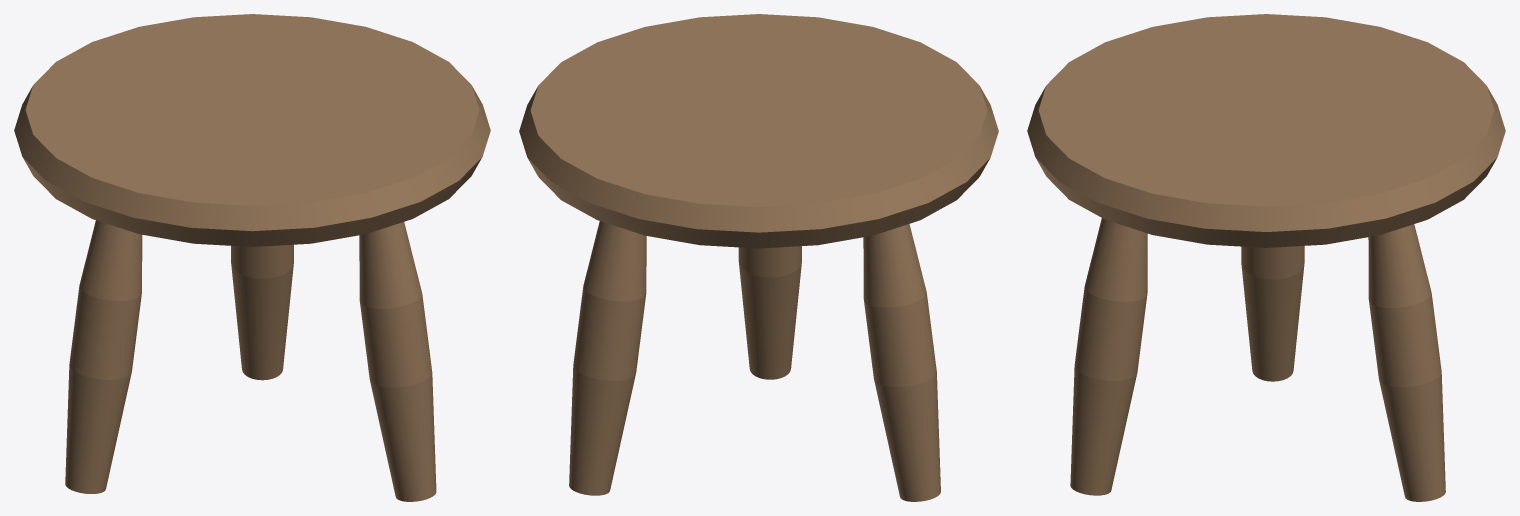
The model's file is stool.fbx.
3 views of the same model, side by side, from view 1: azimuth 30°, elevation 25°; view 2: azimuth 150°, elevation 25°; view 3: azimuth 270°, elevation 25° (orthographic).
Visible parts, largest first — view 1: Komponent_4_1, Komponent_1_3, Komponent_1_1, Komponent_1_2; view 2: Komponent_4_1, Komponent_1_1, Komponent_1_2, Komponent_1_3; view 3: Komponent_4_1, Komponent_1_2, Komponent_1_3, Komponent_1_1.
Part boxes in pixels (x1,y1,x2,y2): Komponent_4_1: (14, 14, 490, 246); Komponent_1_3: (359, 222, 436, 501); Komponent_1_1: (65, 220, 142, 493); Komponent_1_2: (231, 244, 293, 380); Komponent_4_1: (519, 14, 998, 248); Komponent_1_1: (863, 224, 940, 501); Komponent_1_2: (569, 221, 646, 495); Komponent_1_3: (738, 246, 801, 379); Komponent_4_1: (1027, 14, 1505, 247); Komponent_1_2: (1368, 224, 1445, 501); Komponent_1_3: (1070, 218, 1147, 495); Komponent_1_1: (1241, 246, 1304, 381).
Size of the model in its own units: 0.42 by 0.3319 by 0.42.
